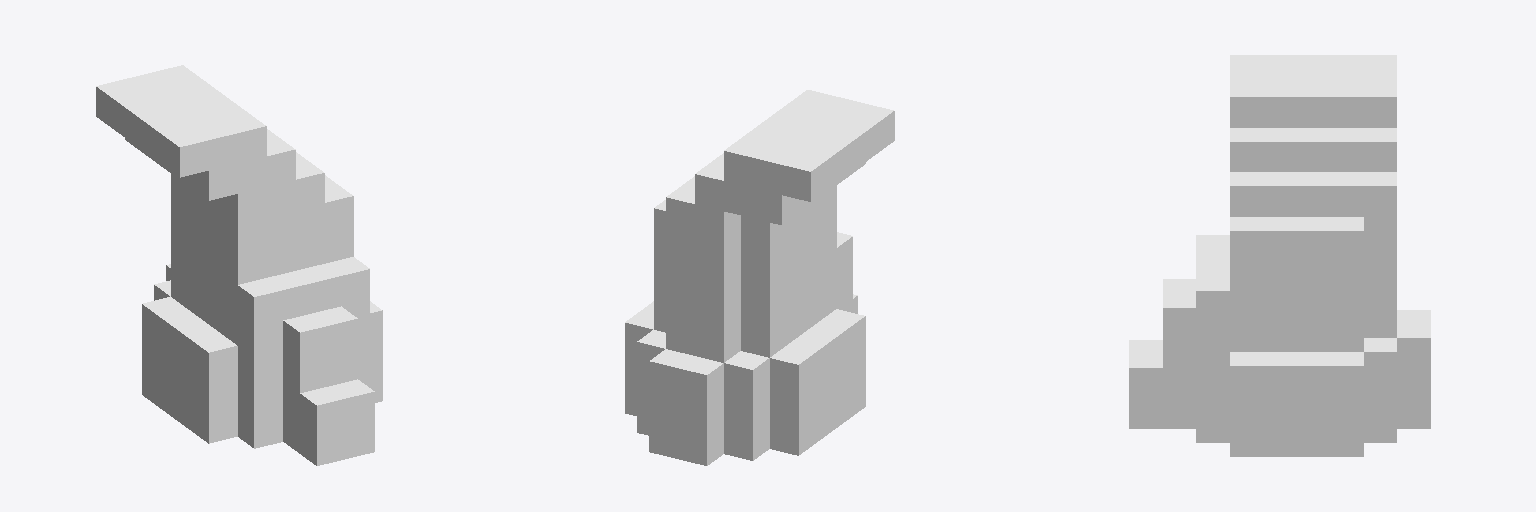
The model's file is Prototype_boss_animation-2.obj.
3 views of the same model, side by side, from view 1: azimuth 30°, elevation 25°; view 2: azimuth 150°, elevation 25°; view 3: azimuth 270°, elevation 25° (orthographic).
Parts seen in each view (by area): view 1: object 1; view 2: object 1; view 3: object 1.
Boxes of the visible parts, x1=… form: object 1: x1=96, y1=65, x2=382, y2=465; object 1: x1=625, y1=90, x2=894, y2=465; object 1: x1=1129, y1=55, x2=1430, y2=456.
Size of the model in its own units: 0.7 by 1 by 0.9.